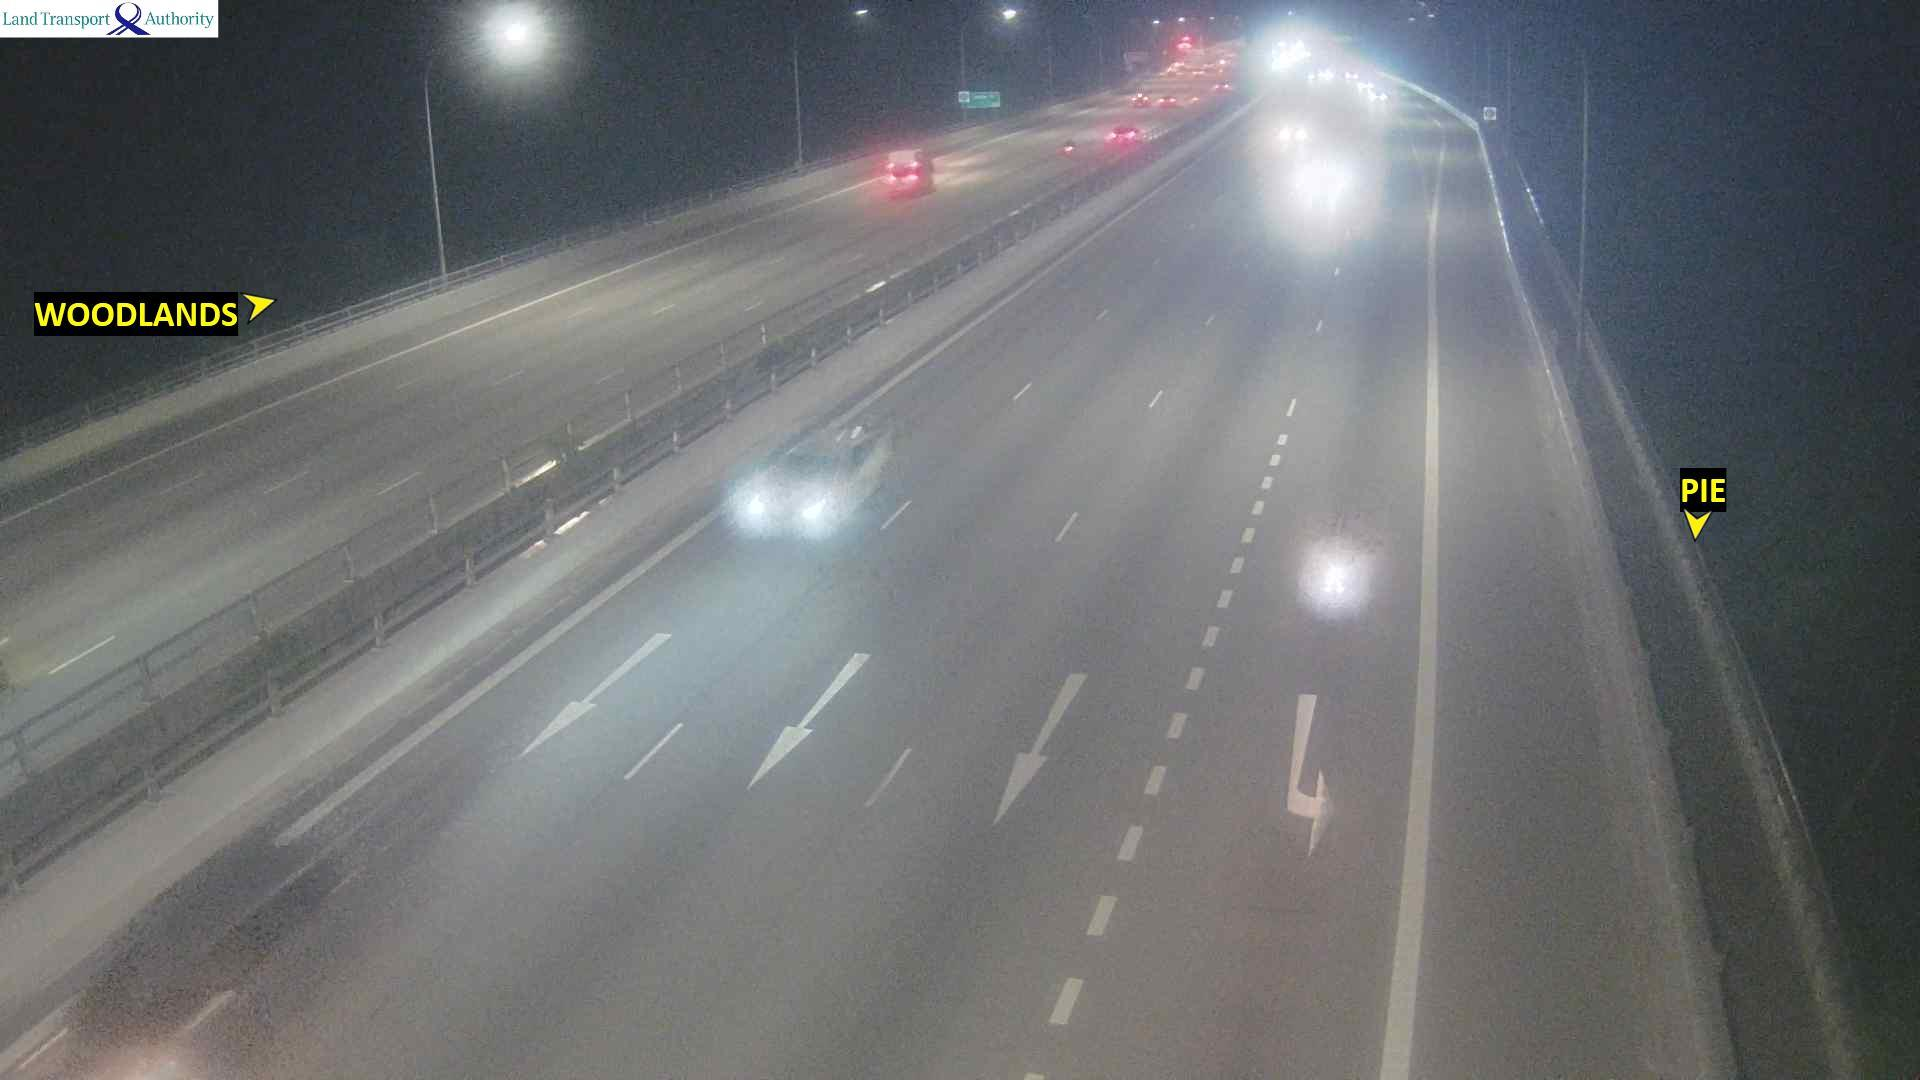cars: (727, 411, 894, 542), (873, 146, 934, 196), (1269, 113, 1312, 153), (1104, 123, 1143, 150), (1122, 47, 1151, 71), (1213, 76, 1233, 96), (1367, 88, 1390, 105), (1175, 34, 1193, 54), (1130, 88, 1150, 107), (1158, 91, 1178, 108), (1316, 67, 1336, 83), (1191, 65, 1208, 80), (1344, 70, 1361, 83), (1358, 80, 1375, 92)
motorcycle: (1286, 512, 1389, 629), (1062, 136, 1077, 161), (1308, 69, 1316, 84), (1191, 94, 1200, 107)
